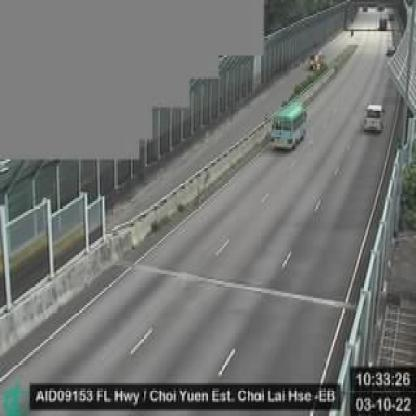Car: (363, 102, 382, 130)
Minibus: (269, 100, 306, 151)
